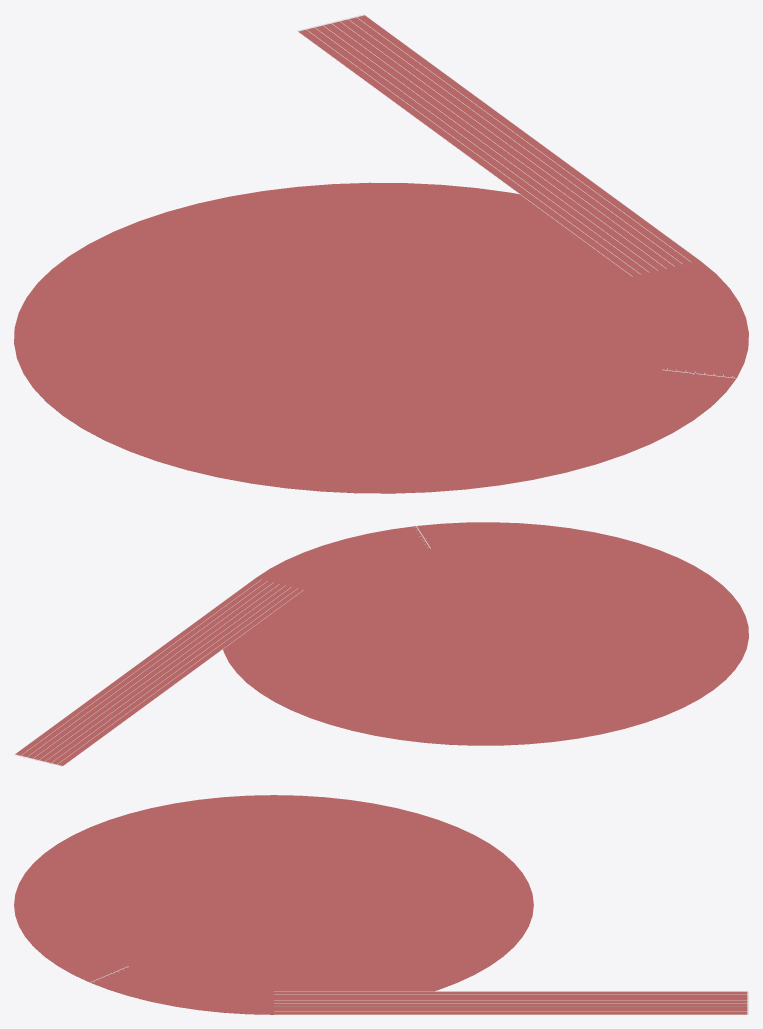
File: 200m track setup.glb
The picture shows the model from 3 angles, top to bottom: view 1: azimuth 30°, elevation 25°; view 2: azimuth 150°, elevation 25°; view 3: azimuth 270°, elevation 25°; orthographic projection. The views are drawn at different scales.
Parts seen in each view (by area): view 1: MetaAthletics_200m_CurveBase, MetaAthletics_200m_Straight; view 2: MetaAthletics_200m_CurveBase, MetaAthletics_200m_Straight; view 3: MetaAthletics_200m_CurveBase, MetaAthletics_200m_Straight, MetaAthletics_200m_Divider_0, MetaAthletics_200m_Divider_1, MetaAthletics_200m_Divider_3, MetaAthletics_200m_Divider_4, MetaAthletics_200m_Divider_7, MetaAthletics_200m_Divider_8, MetaAthletics_200m_Divider_5.
Part boxes in pixels (x1,y1,x2,y2): MetaAthletics_200m_CurveBase: (14, 182, 748, 493); MetaAthletics_200m_Straight: (298, 15, 695, 276); MetaAthletics_200m_CurveBase: (220, 522, 748, 745); MetaAthletics_200m_Straight: (15, 578, 302, 765); MetaAthletics_200m_CurveBase: (14, 795, 533, 1014); MetaAthletics_200m_Straight: (274, 991, 747, 1014); MetaAthletics_200m_Divider_0: (274, 991, 747, 991); MetaAthletics_200m_Divider_1: (274, 994, 747, 994); MetaAthletics_200m_Divider_3: (274, 1000, 747, 1000); MetaAthletics_200m_Divider_4: (274, 1003, 747, 1003); MetaAthletics_200m_Divider_7: (274, 1011, 747, 1011); MetaAthletics_200m_Divider_8: (274, 1014, 747, 1014); MetaAthletics_200m_Divider_5: (274, 1006, 746, 1006).
Bounding box in the file's own units: 92.56 × 0.1895 × 131.
